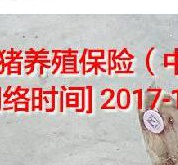text: (134, 105, 173, 141)
